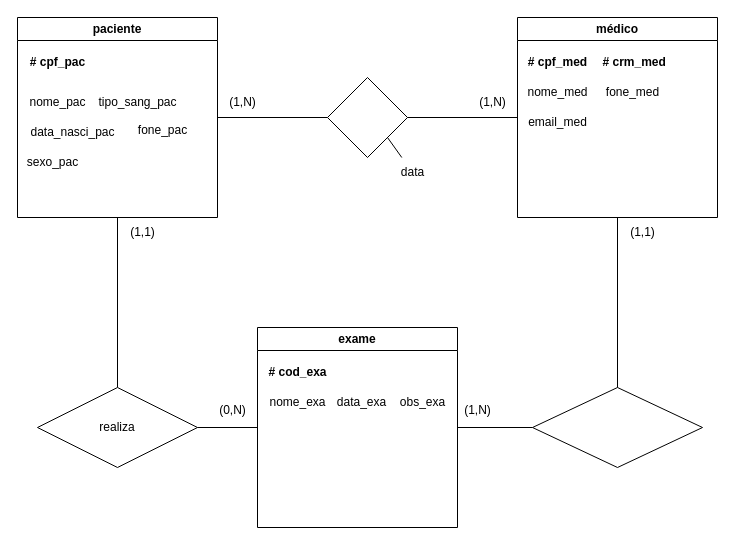
Some shapes in this 735 by 545 pixel diagram are drawn without their labels. The centre of each missing label's shape, as x and y in pixels:
"autoriza" goes at (617,427).
"consulta" goes at (367,117).
